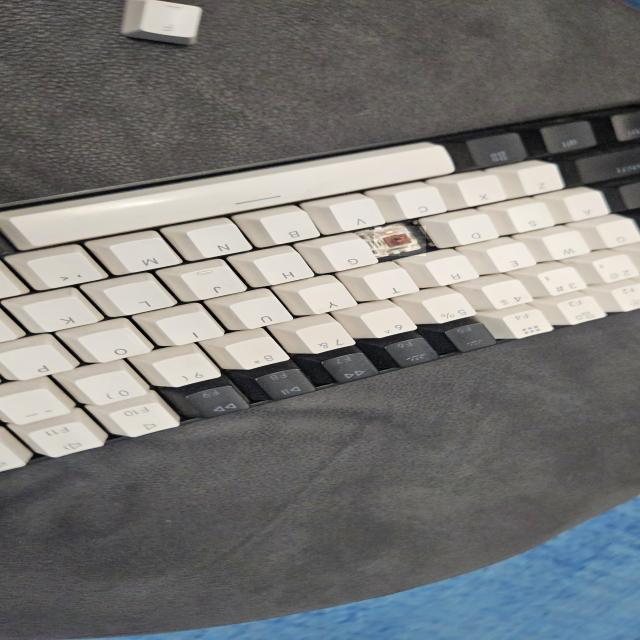C: (374, 226, 426, 256)
